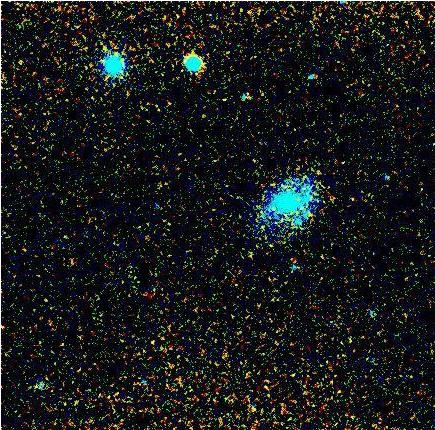star: (4, 47, 34, 77)
